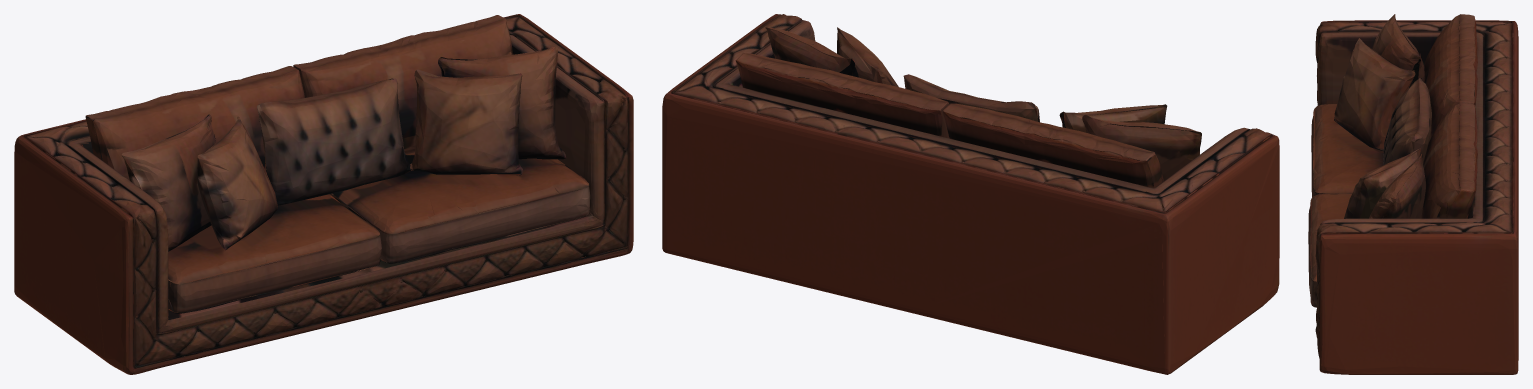
Rendered from edited_mesh.glb.
The picture shows the model from 3 angles, left to right: view 1: azimuth 30°, elevation 25°; view 2: azimuth 150°, elevation 25°; view 3: azimuth 270°, elevation 25°; orthographic projection. The views are drawn at different scales.
Parts seen in each view (by area): view 1: solid_001_wire; view 2: solid_001_wire; view 3: solid_001_wire.
Part boxes in pixels (x1=…): solid_001_wire: x1=14, y1=14, x2=633, y2=374; solid_001_wire: x1=662, y1=14, x2=1279, y2=374; solid_001_wire: x1=1308, y1=14, x2=1518, y2=374.
Size of the model in its own units: 2 by 0.7095 by 0.8163.
1 material, 1 textured.
